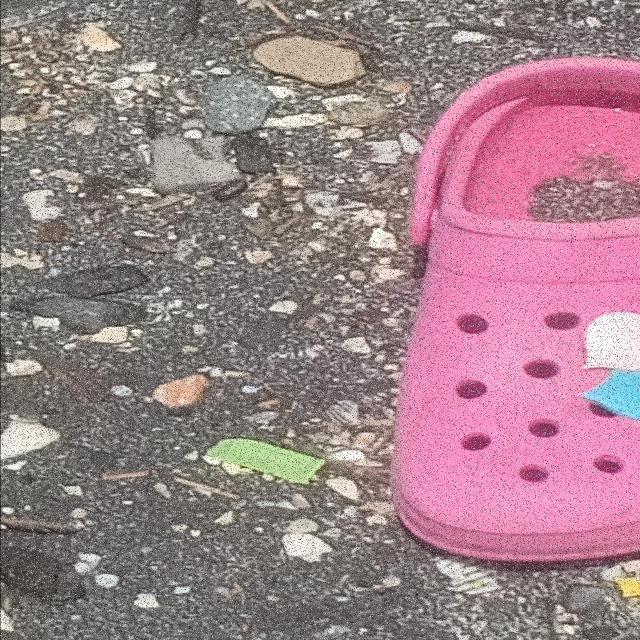rubber_waste: (391, 58, 640, 564)
